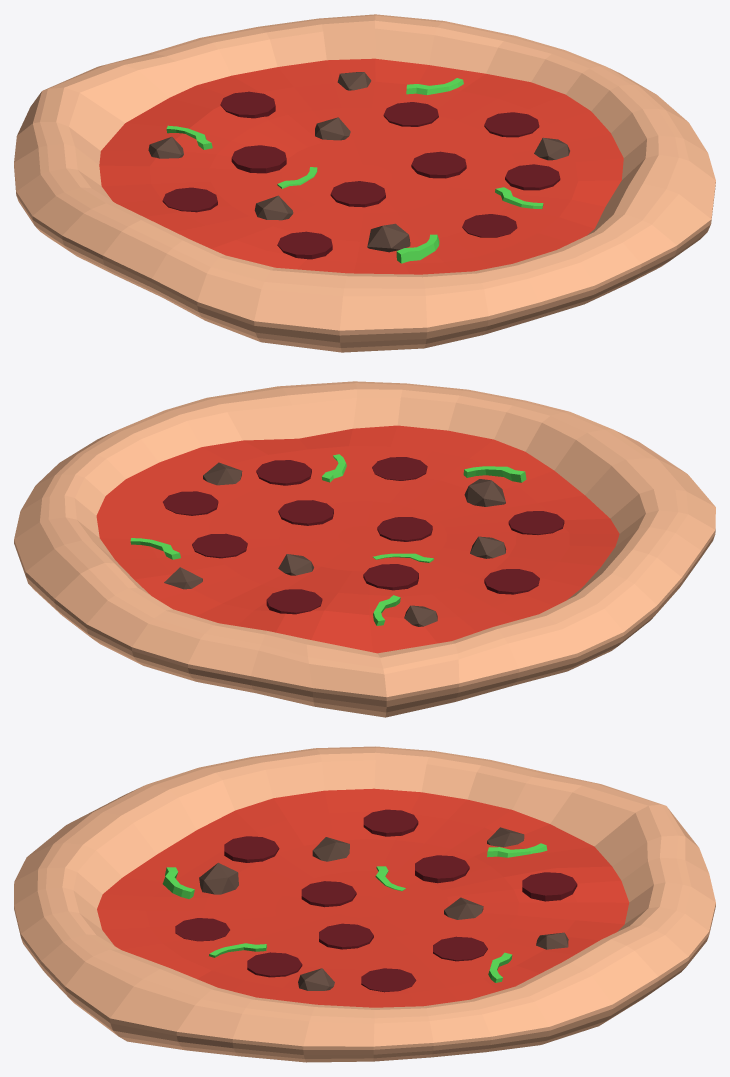
The model's file is Pizza 1.fbx.
3 views of the same model, one above another, from view 1: azimuth 30°, elevation 25°; view 2: azimuth 150°, elevation 25°; view 3: azimuth 270°, elevation 25° (orthographic).
Parts seen in each view (by area): view 1: Cylinder; view 2: Cylinder; view 3: Cylinder.
Boxes of the visible parts, x1,y1,x2,y2 form: Cylinder: (14, 14, 715, 352); Cylinder: (14, 381, 715, 717); Cylinder: (14, 746, 715, 1062).
Bounding box in the file's own units: 59.2 × 6.45 × 60.42.
